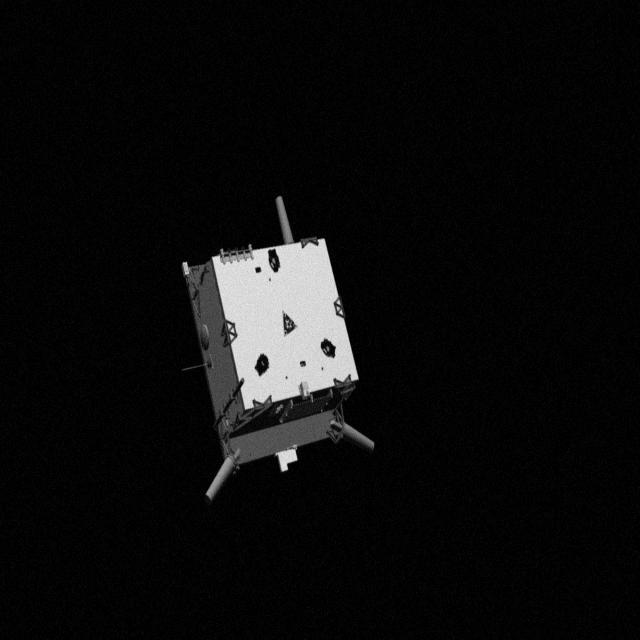medium_debris: (180, 192, 382, 508)
